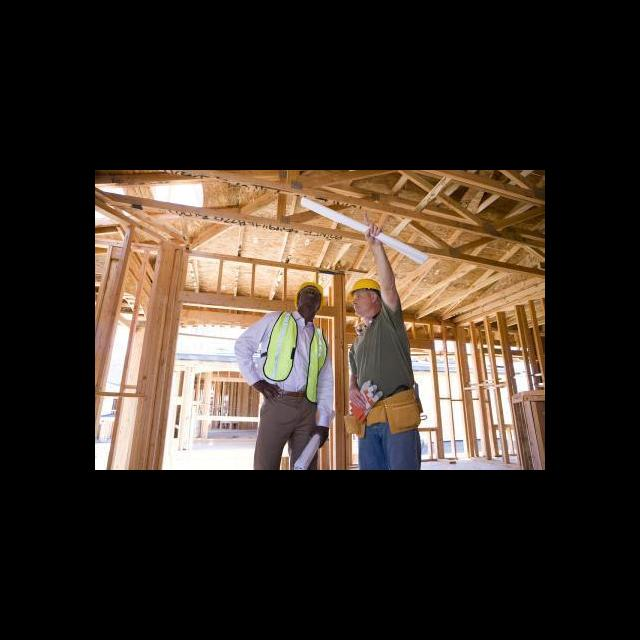Gloves: (357, 384, 383, 425), (351, 383, 373, 418)
Hardhat: (295, 282, 324, 309), (347, 279, 380, 291)
NO-Mask: (354, 301, 373, 317), (302, 294, 318, 305)
NO-Safety Vest: (356, 315, 410, 399)
Person: (347, 211, 422, 470), (233, 281, 335, 470)
Safety Vest: (265, 313, 326, 401)
